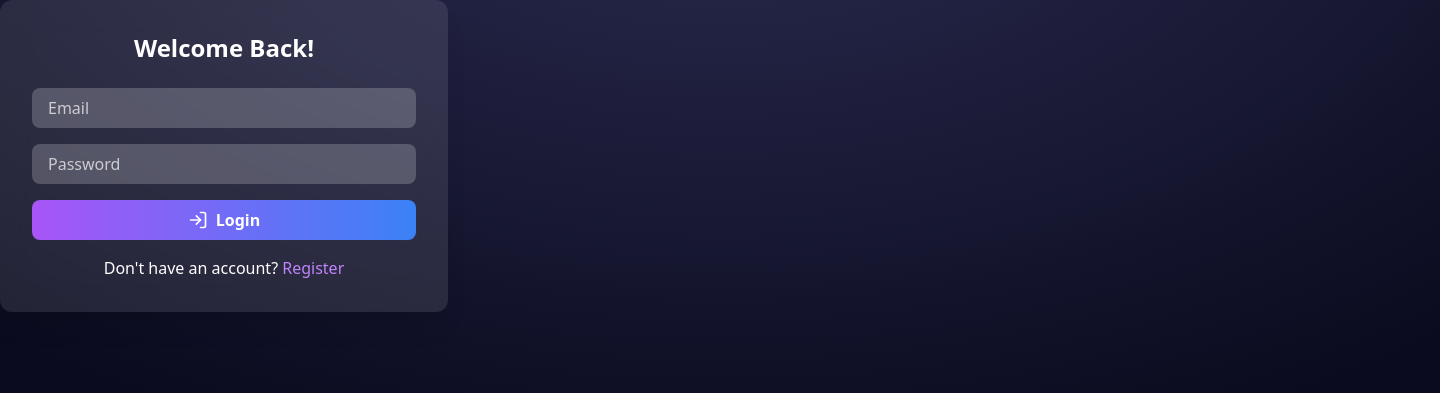
Scenario: AuthForm Component › displays error message on login failure
Type "test@example.com" into the field with placeholder "Email".
click(224, 108); type("test@example.com")  # box [32,88,416,128]
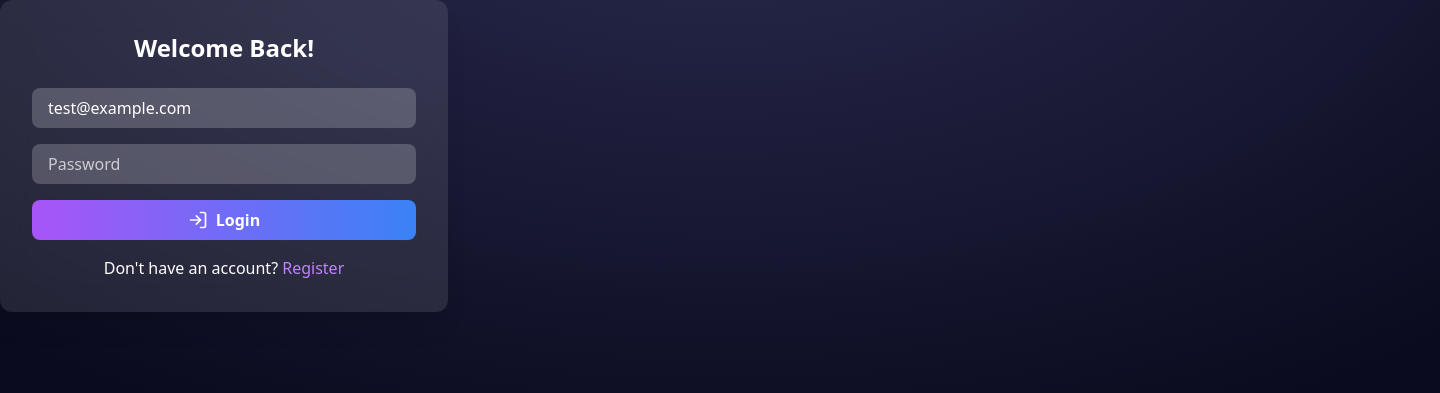
Type "wrongpassword" into the password field with placeholder "Password".
click(224, 164); type("wrongpassword")  # box [32,144,416,184]
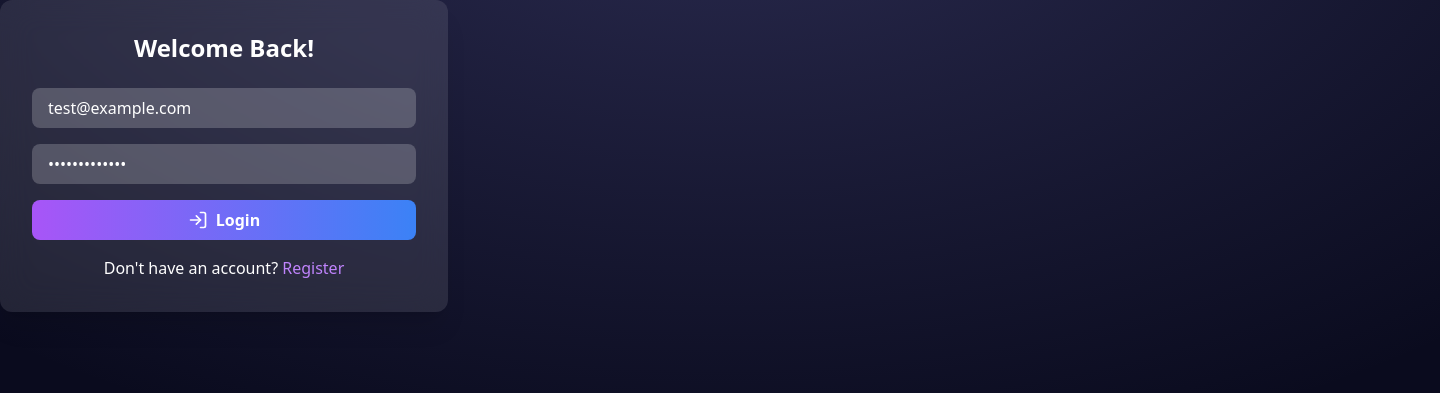
Click the button "Login".
click(224, 220)  # box [32,200,416,240]
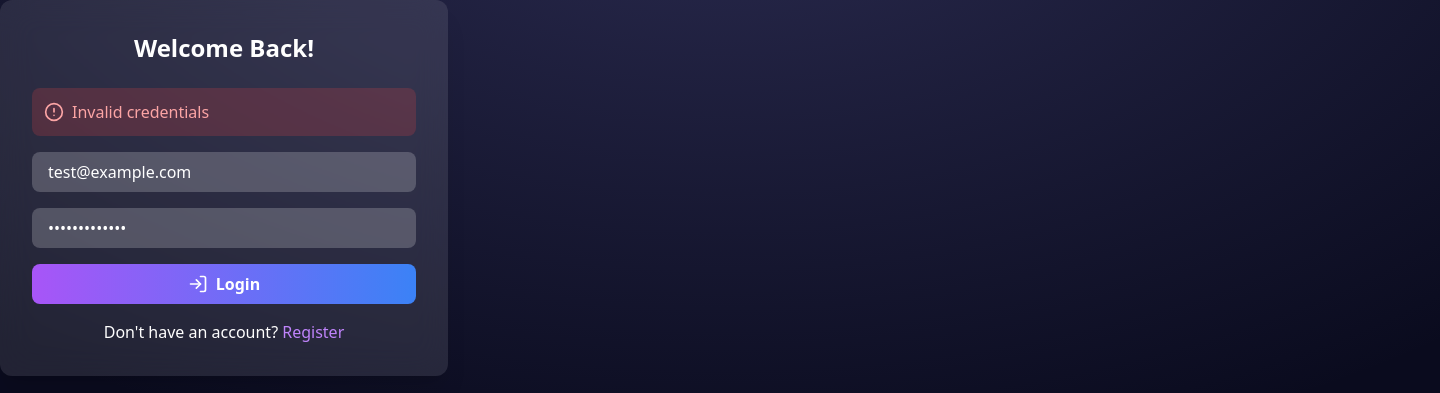
Expected: the text "Invalid credentials" is shown, [72,100,209,124]
